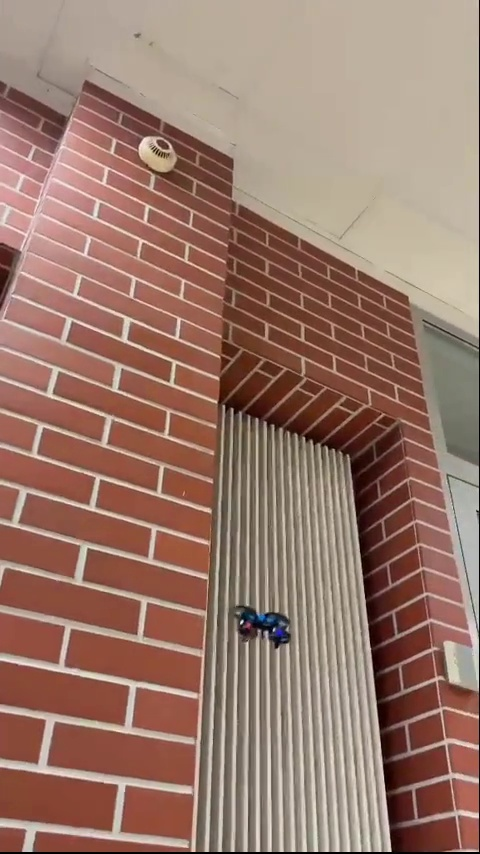drone: (235, 604, 298, 652)
